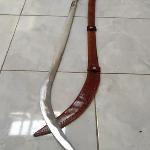Celurit: (34, 1, 104, 148)
